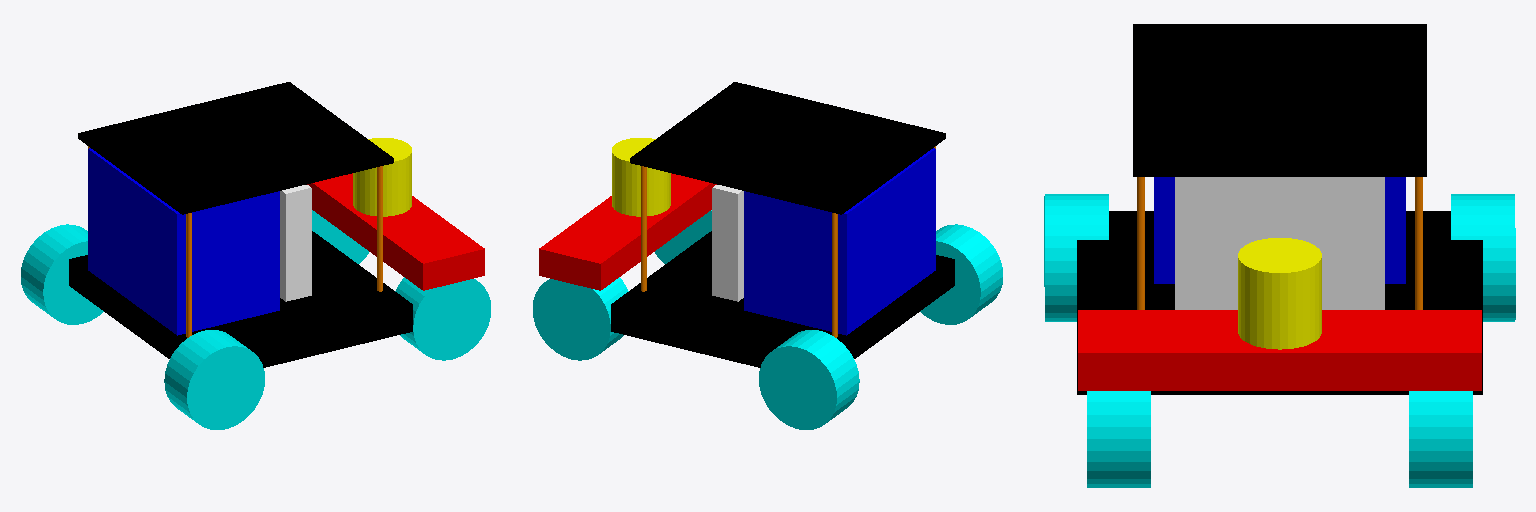
The robot description file, URDF, robot "Robotcar1":
<?xml version="1.0"?>
 <robot name="Robotcar1">
   <link name="base_footprint">
     <visual>
       <geometry>
         <box size="0.41 .483 .05" />
       </geometry>
       <origin rpy="0 0 0" xyz="0 0 0.025" />
       <material name="black">
         <color rgba="0 0 0 1" />
       </material>
     </visual>
   </link>  
   
   <link name="wheel_left_back">
     <visual>
       <geometry>
         <cylinder length="0.076" radius="0.076" />
       </geometry>
       <origin rpy="1.57 1.57 0" xyz="-0.18 0.2415 0" />
         <material name="cyan">
           <color rgba="0 1 1 1" />
         </material>
     </visual>
   </link>
     
   <link name="wheel_right_front">
     <visual>
       <geometry>
         <cylinder length="0.076" radius="0.076" />
       </geometry>
       <origin rpy="1.57 1.57 0" xyz="0.2875 -0.1915 0" />
       <material name="cyan"/>
     </visual>
   </link>
   
   <link name="wheel_left_front">
     <visual>
       <geometry>
         <cylinder length="0.076" radius="0.076" />
       </geometry>
       <origin rpy="1.57 1.57 0" xyz="0.2875 0.1915 0" />
       <material name="cyan"/>
     </visual>
   </link>

   <link name="wheel_right_back">
     <visual>
       <geometry>
         <cylinder length="0.076" radius="0.076" />
       </geometry>
       <origin rpy="1.57 1.57 0" xyz="-0.18 -0.2415 0" />
       <material name="cyan"/>
     </visual>
   </link>
   
   <link name="second_layerbox">
     <visual>
       <geometry>
         <box size="0.41 .35 .01"/>
       </geometry>
       <origin rpy="0 0 0" xyz="0 0 0.29" />
       <material name="black"/>
     </visual>
   </link>
   
   <link name="second_layerbox_1">
     <visual>
       <geometry>
         <box size="0.2 .3 .25" />
       </geometry>
       <origin rpy="0 0 0" xyz="-0.1 0 0.15" />
         <material name="blue">
           <color rgba="0 0 1 1" />
         </material>
     </visual>
   </link>
   
   <link name="second_layerbox_2">
     <visual>
       <geometry>
         <box size="0.05 .25 .2" />
       </geometry>
       <origin rpy="0 0 0" xyz="0.05 0 0.15" />
         <material name="white">
           <color rgba="1 1 1 1" />
         </material>
     </visual>
   </link>
   
   <link name="balance_box">
     <visual>
       <geometry>
         <box size="0.12 .48 .05"/>
       </geometry>
       <origin rpy="0 0 0" xyz="0.285 0 0.095" />
       <material name="red">
         <color rgba="1 0 0 1" />
       </material>
     </visual>
   </link>
   
   <link name="laser">
     <visual>
       <geometry>
         <cylinder length="0.1" radius="0.05" />
       </geometry>
       <origin rpy="0 0 0" xyz="0.285 0 0.17" />
         <material name="yellow">
           <color rgba="1 1 0 1.0" />
         </material>
     </visual>
   </link>
   
   <link name="second_layercylinder_1">
     <visual>
       <geometry>
         <cylinder length="0.25" radius="0.005" />
       </geometry>
       <origin rpy="0 0 0" xyz="0.185 0.165 0.165" />
       <material name="gold">
         <color rgba="1 0.549 0 1.0" />
       </material>
     </visual>
   </link>
   
   <link name="second_layercylinder_2">
     <visual>
       <geometry>
         <cylinder length="0.25" radius="0.005" />
       </geometry>
       <origin rpy="0 0 0" xyz="-0.185 0.165 0.165" />
       <material name="gold"/>
     </visual>
   </link>
   
   <link name="second_layercylinder_3">
     <visual>
       <geometry>
         <cylinder length="0.25" radius="0.005" />
       </geometry>
       <origin rpy="0 0 0" xyz="-0.185 -0.165 0.165" />
       <material name="gold"/>  
     </visual>
   </link>
   
   <link name="second_layercylinder_4">
     <visual>
       <geometry>
         <cylinder length="0.25" radius="0.005" />
       </geometry>
       <origin rpy="0 0 0" xyz="0.185 -0.165 0.165" />
       <material name="gold"/>
     </visual>
   </link>
   
   <joint name="base_to_wheel_right_front" type="fixed">
     <parent link="base_footprint"/>
     <child link="wheel_right_front"/>
     <origin xyz="0 0 0"/>
   </joint>
   
    <joint name="base_to_wheel_left_front" type="fixed">
      <parent link="base_footprint"/>
      <child link="wheel_left_front"/>
      <origin xyz="0 0 0"/>
    </joint>

   <joint name="base_to_wheel_left_back" type="fixed">
     <parent link="base_footprint"/>
     <child link="wheel_left_back"/>
     <origin xyz="0 0 0"/>
   </joint>

   <joint name="base_to_wheel_right_back" type="fixed">
     <parent link="base_footprint"/>
     <child link="wheel_right_back"/>
     <origin xyz="0 0 0"/>
   </joint> 
   
   <joint name="base_to_second_layerbox" type="fixed">
     <parent link="base_footprint"/>
     <child link="second_layerbox"/>
     <origin xyz="0 0 0"/>
   </joint>  
   
   <joint name="base_to_second_layerbox_1" type="fixed">
     <parent link="base_footprint"/>
     <child link="second_layerbox_1"/>
     <origin xyz="0 0 0"/>
   </joint>
   
   <joint name="base_to_second_layerbox_2" type="fixed">
     <parent link="base_footprint"/>
     <child link="second_layerbox_2"/>
     <origin xyz="0 0 0"/>
   </joint>
      
   <joint name="base_to_balance_box" type="fixed">
     <parent link="base_footprint"/>
     <child link="balance_box"/>
     <origin xyz="0 0 0"/>
   </joint>   
   
   <joint name="base_to_laser" type="fixed">
     <parent link="base_footprint"/>
     <child link="laser"/>
     <origin xyz="0 0 0"/>
   </joint> 
   
   <joint name="base_to_second_layercylinder_1" type="fixed">
     <parent link="base_footprint"/>
     <child link="second_layercylinder_1"/>
     <origin xyz="0 0 0"/>
   </joint>
   
   <joint name="base_to_second_layercylinder_2" type="fixed">
     <parent link="base_footprint"/>
     <child link="second_layercylinder_2"/>
     <origin xyz="0 0 0"/>
   </joint>  

   <joint name="base_to_second_layercylinder_3" type="fixed">
     <parent link="base_footprint"/>
     <child link="second_layercylinder_3"/>
     <origin xyz="0 0 0"/>
   </joint>    

   <joint name="base_to_second_layercylinder_4" type="fixed">
     <parent link="base_footprint"/>
     <child link="second_layercylinder_4"/>
     <origin xyz="0 0 0"/>
   </joint>
   
  </robot> 
<!--black: 0 0 0 1;white:1 1 1 1;red:1 0 0 1;green:0 1 0 1;blue:0 0 1 1;grey:0.2 0.2 0.2 1;gold:1 0.549 0 1;orange: ${255/255} ${108/255} ${10/255} 1.0;brown: ${222/255} ${207/255} ${195/255} 1.0; Yellow:1 1 0 1.0-->  

--- Facts derived from the render (not from the file) ---
3 views of the same robot in one strip: view 1: azimuth 30°, elevation 25°; view 2: azimuth 150°, elevation 25°; view 3: azimuth 270°, elevation 25° (orthographic).
Model Robotcar1 with 14 links and 13 joints (13 fixed), rooted at base_footprint, posed all joints at 0.
Visible links, largest first — view 1: second_layerbox, second_layerbox_1, base_footprint, balance_box, wheel_right_back, wheel_right_front, wheel_left_back, second_layerbox_2, laser, wheel_left_front, second_layercylinder_4, second_layercylinder_3; view 2: second_layerbox, second_layerbox_1, base_footprint, balance_box, wheel_left_back, wheel_left_front, wheel_right_back, second_layerbox_2, laser, wheel_right_front, second_layercylinder_1, second_layercylinder_2; view 3: second_layerbox, balance_box, second_layerbox_2, base_footprint, laser, wheel_right_front, wheel_left_front, wheel_left_back, wheel_right_back, second_layerbox_1, second_layercylinder_1, second_layercylinder_4.
Link boxes in pixels (x1,y1,x2,y2): second_layerbox: (78,82,393,214); second_layerbox_1: (88,148,279,335); base_footprint: (69,231,412,367); balance_box: (307,173,484,290); wheel_right_back: (164,330,264,429); wheel_right_front: (395,277,490,360); wheel_left_back: (21,224,103,324); second_layerbox_2: (280,185,311,301); laser: (353,138,411,216); wheel_left_front: (312,210,368,263); second_layercylinder_4: (377,166,382,291); second_layercylinder_3: (186,213,191,337); second_layerbox: (630,82,945,214); second_layerbox_1: (744,148,935,335); base_footprint: (611,231,954,367); balance_box: (539,173,716,290); wheel_left_back: (759,330,859,429); wheel_left_front: (533,277,628,360); wheel_right_back: (920,224,1002,324); second_layerbox_2: (712,185,743,301); laser: (612,138,670,216); wheel_right_front: (655,210,711,263); second_layercylinder_1: (641,166,646,291); second_layercylinder_2: (832,213,837,337); second_layerbox: (1133,24,1426,176); balance_box: (1078,310,1481,390); second_layerbox_2: (1175,177,1384,309); base_footprint: (1077,211,1482,394); laser: (1238,238,1321,349); wheel_right_front: (1087,391,1150,487); wheel_left_front: (1409,391,1472,487); wheel_left_back: (1451,194,1515,321); wheel_right_back: (1044,194,1108,321); second_layerbox_1: (1154,177,1405,283); second_layercylinder_1: (1415,177,1422,309); second_layercylinder_4: (1137,177,1144,309).
Size in the robot's own frame: 0.6196 by 0.5591 by 0.371 metres.
Geometry: primitives only (box / cylinder / sphere), no mesh files.